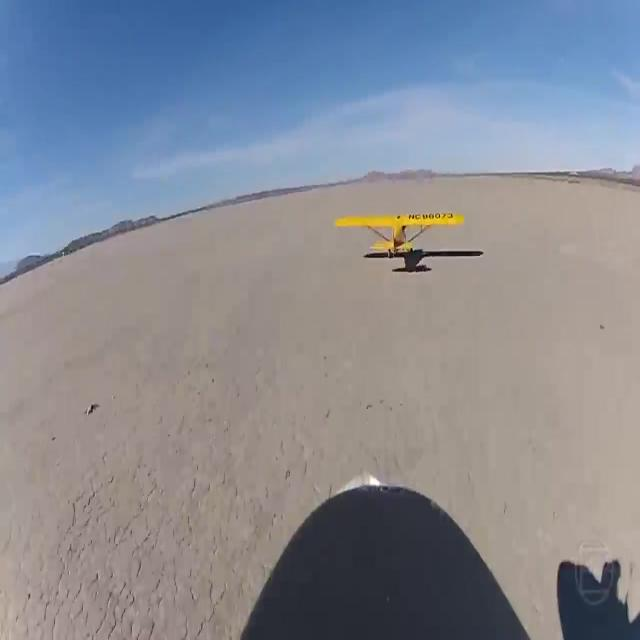iha: (335, 211, 464, 259)
